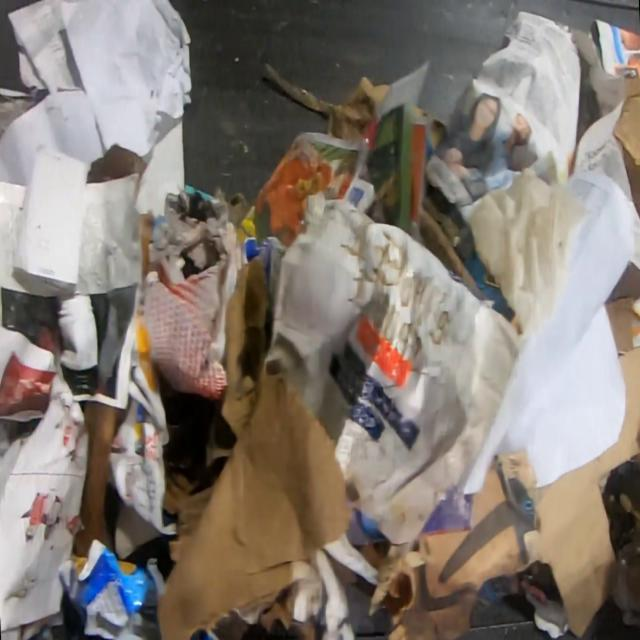cardboard: (156, 360, 357, 639), (353, 448, 544, 640), (538, 346, 639, 639), (144, 183, 250, 401), (217, 256, 269, 438), (613, 74, 640, 221)
soft_plastic: (56, 537, 168, 639)
